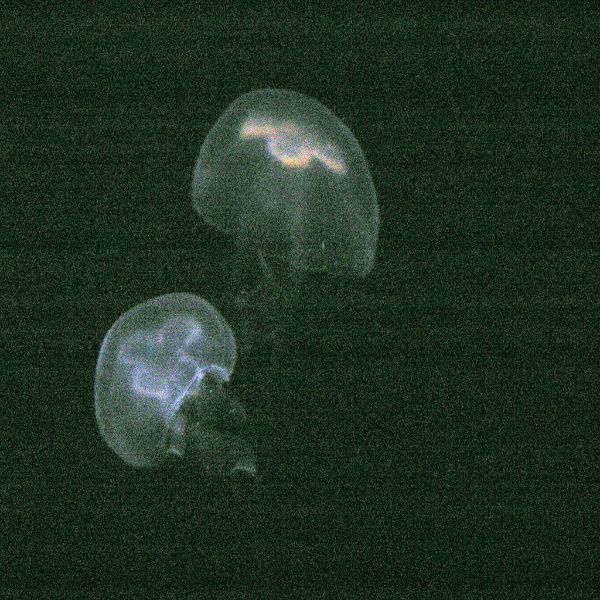Jellyfish: (188, 85, 379, 355), (91, 289, 255, 489)
